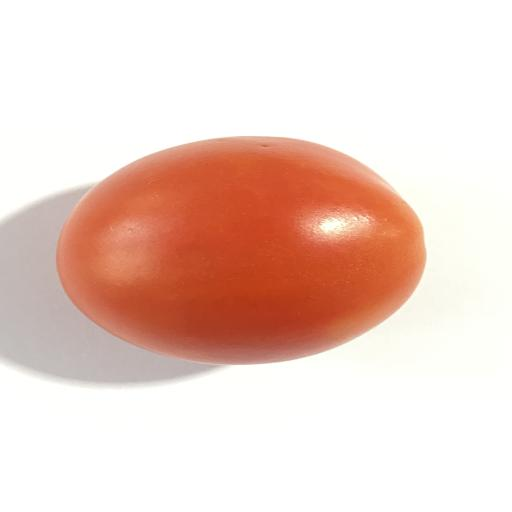ripe: (57, 137, 425, 364)
